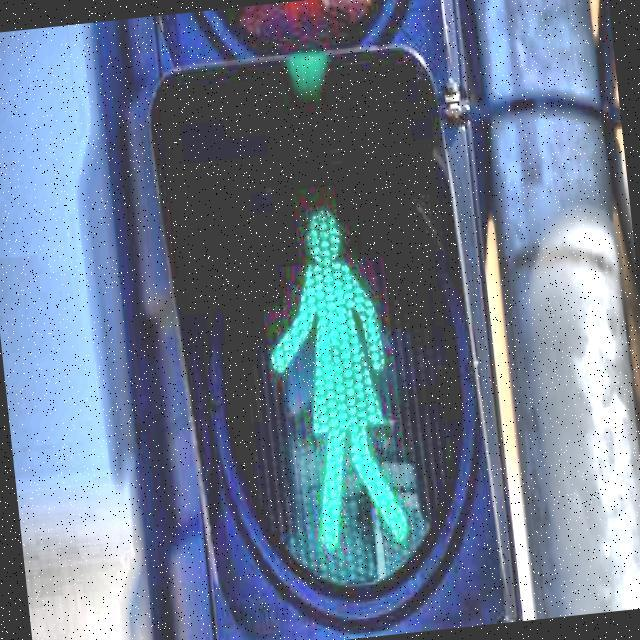green_light: (252, 195, 413, 564)
